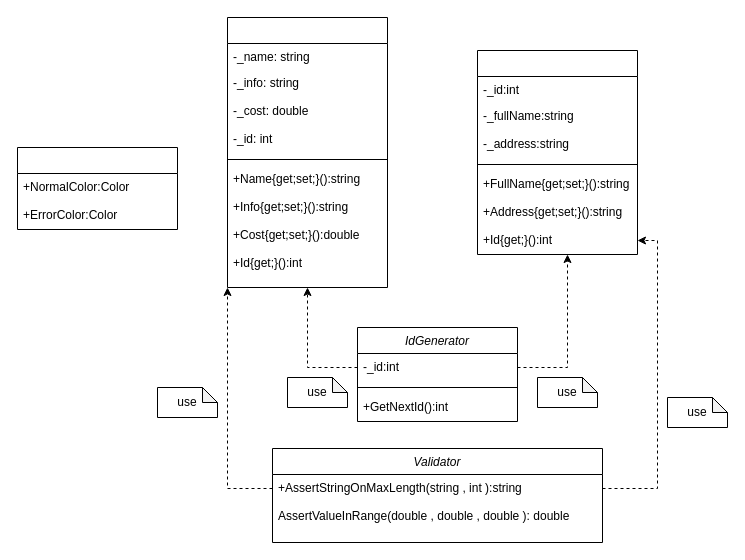
Some shapes in this 745 by 560 pixel diagram are drawn without their labels. Each missing label, with the box of its shape:
AppColors: (16, 146, 178, 230)
Customer: (476, 50, 638, 254)
Item: (226, 16, 388, 288)
